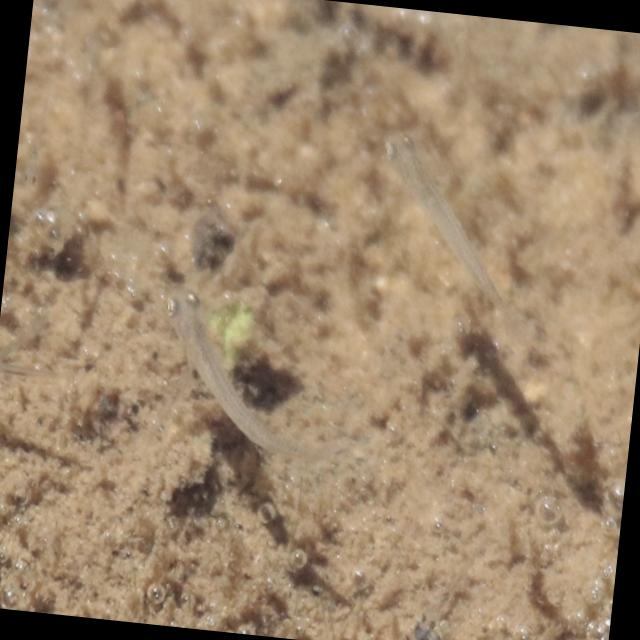Sivrisinek Baligi: (148, 280, 334, 472), (364, 121, 528, 325)
